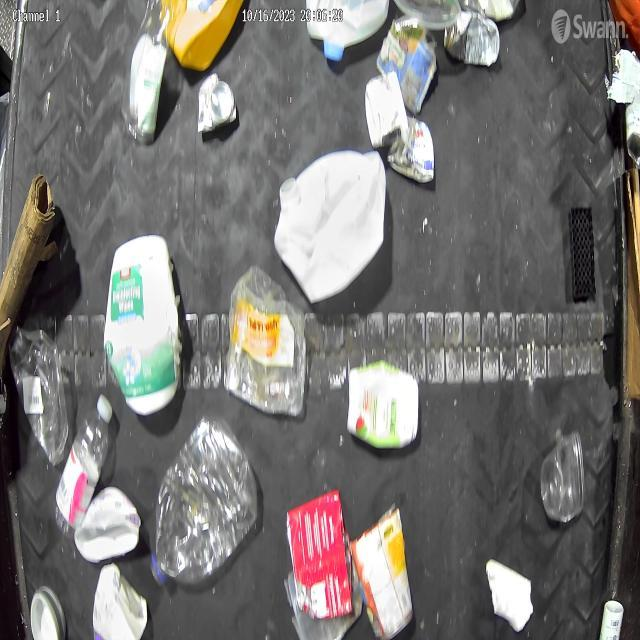can: (444, 9, 500, 68), (386, 116, 434, 184), (196, 74, 239, 134), (624, 49, 640, 166)
milk_jug: (274, 149, 386, 303), (305, 0, 390, 63)
non_white_jug: (162, 0, 244, 72)
plastic_bottle: (149, 412, 259, 586), (53, 393, 114, 538)
